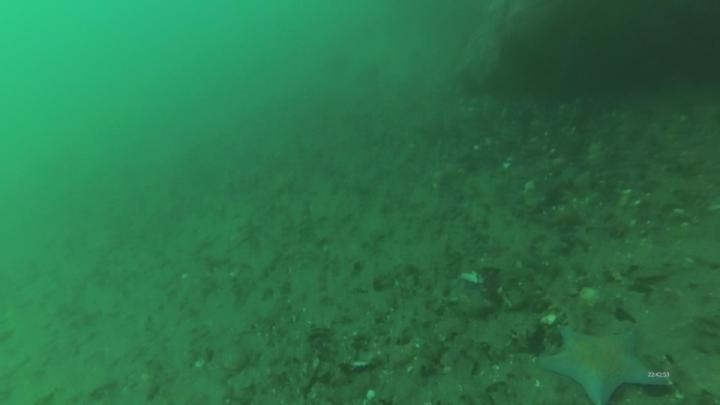starfish: (536, 319, 676, 405)
